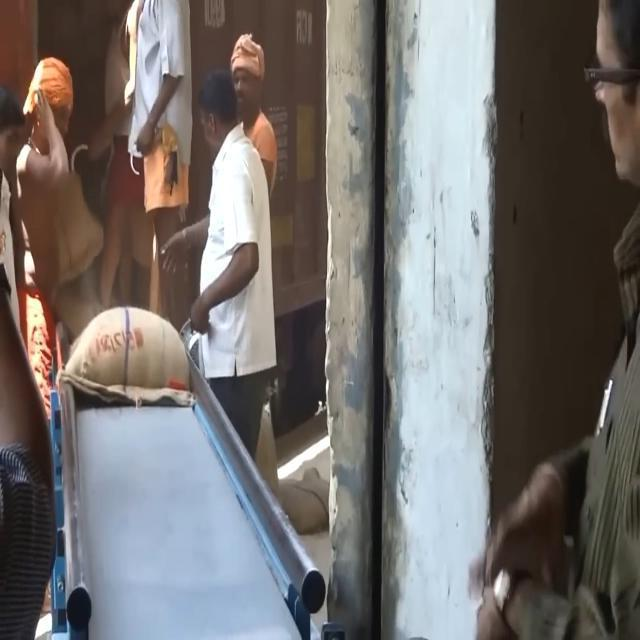gunny_bag: (60, 307, 193, 402)
